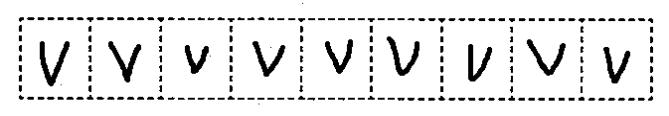V: (378, 32, 431, 82), (104, 32, 148, 88), (33, 36, 78, 87), (244, 38, 293, 81), (317, 36, 363, 80), (524, 34, 570, 78), (595, 43, 636, 89), (462, 39, 498, 87), (179, 40, 216, 83)
